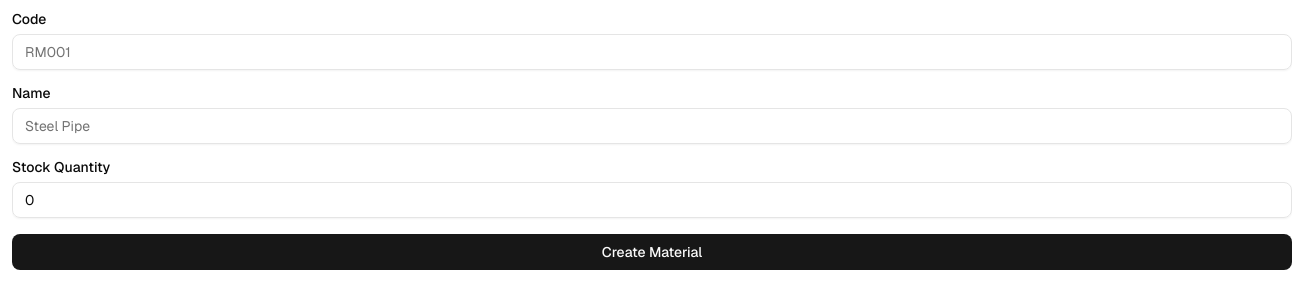
Test case: RawMaterialForm › should show spinner when mutation is pending
Type "RM1" into the field with placeholder "RM001" at (652, 52), box [12,34,1292,70]
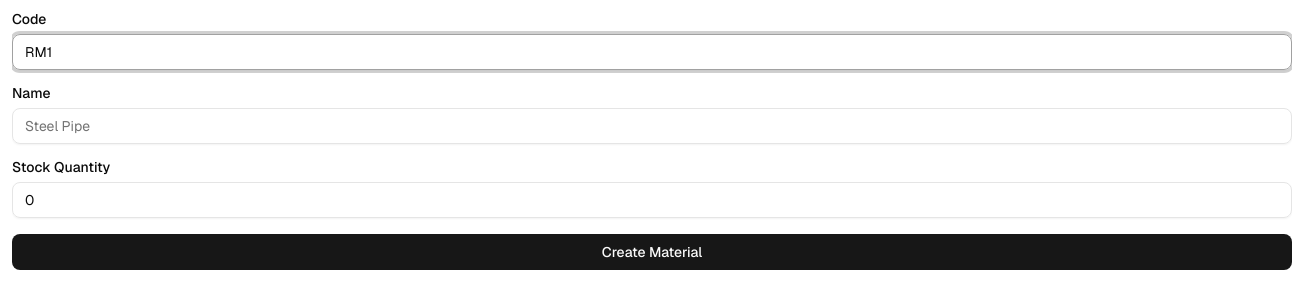
Type "S" into the field with placeholder "Steel Pipe" at (652, 126), box [12,108,1292,144]
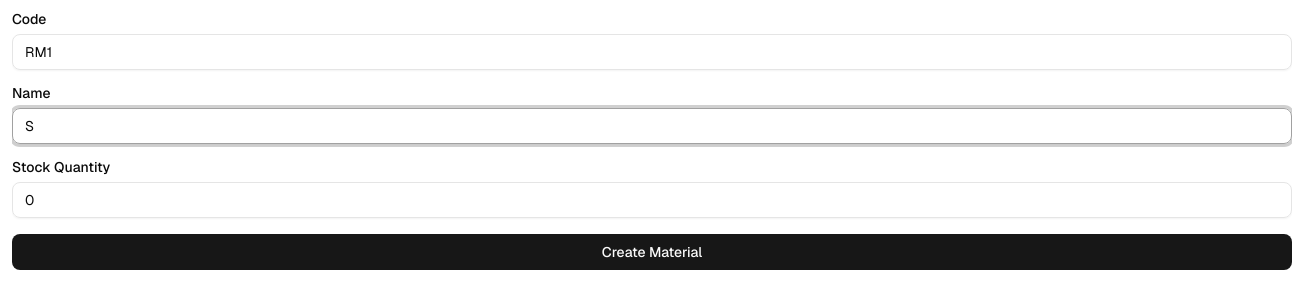
Replace the text in the number field labelled "Stock Quantity" with "1" at (652, 200), box [12,182,1292,218]
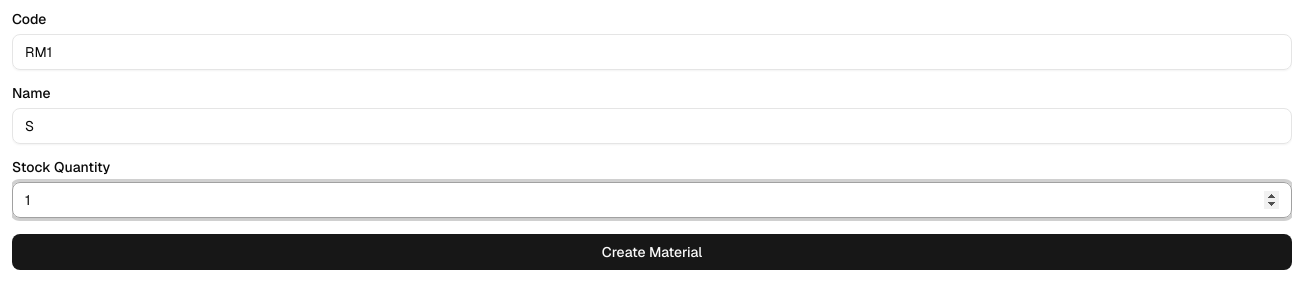
Submit the form
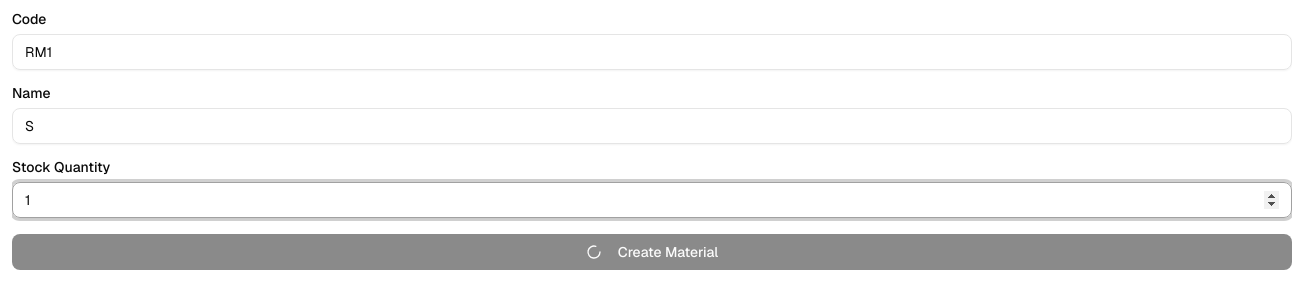
Result: the icon with class "animate-spin" is shown at [586,244,602,260]
Result: the button "Create Material" is disabled at [12,234,1292,270]
